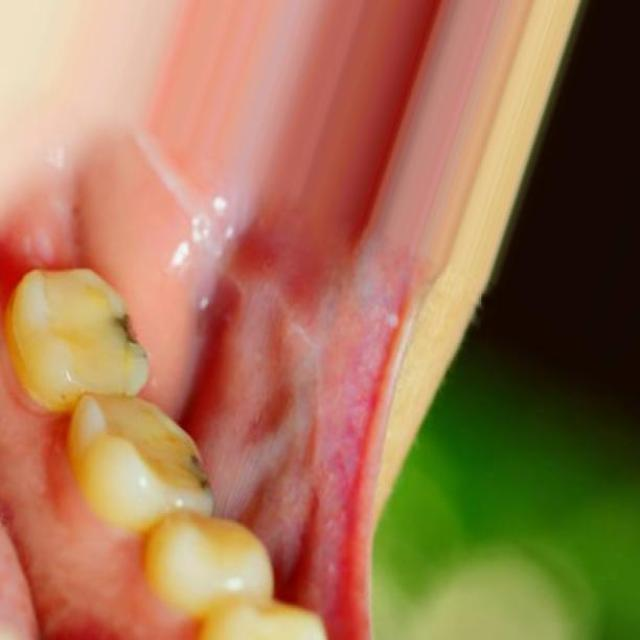caries: (104, 293, 150, 377), (181, 438, 224, 512)
